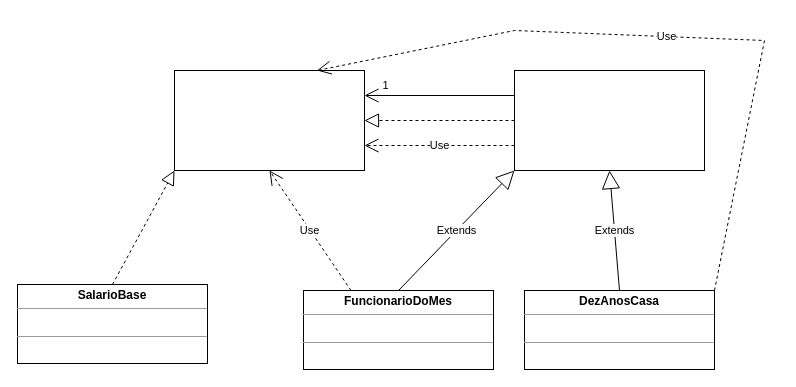
This 796x387 diagram has some shape labels left out. Each missing label, with the centre of its shape:
"<<Abstract>> Bonificacoes" belongs at [609,120].
"<<Interface>> Salario" belongs at [269,120].
